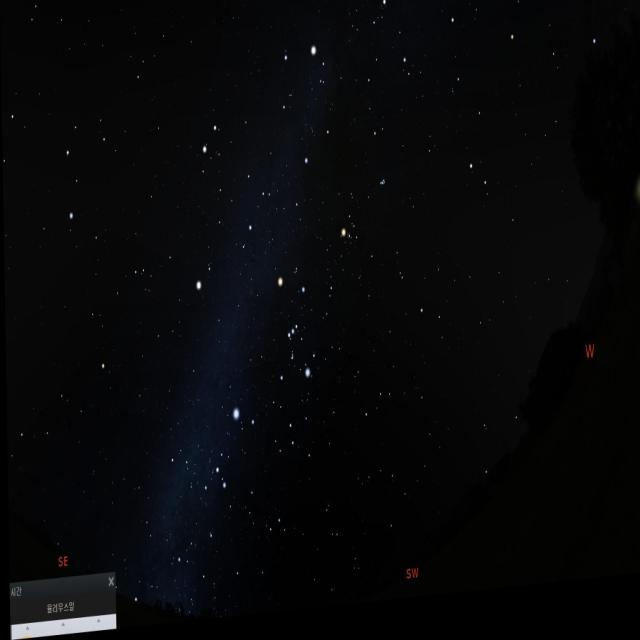canis_major: (214, 402, 258, 506)
canis_minor: (190, 264, 217, 304)
gemini: (199, 119, 270, 253)
orion: (270, 271, 322, 402)
pleiades: (375, 182, 389, 203)
taurus: (334, 164, 398, 266)
